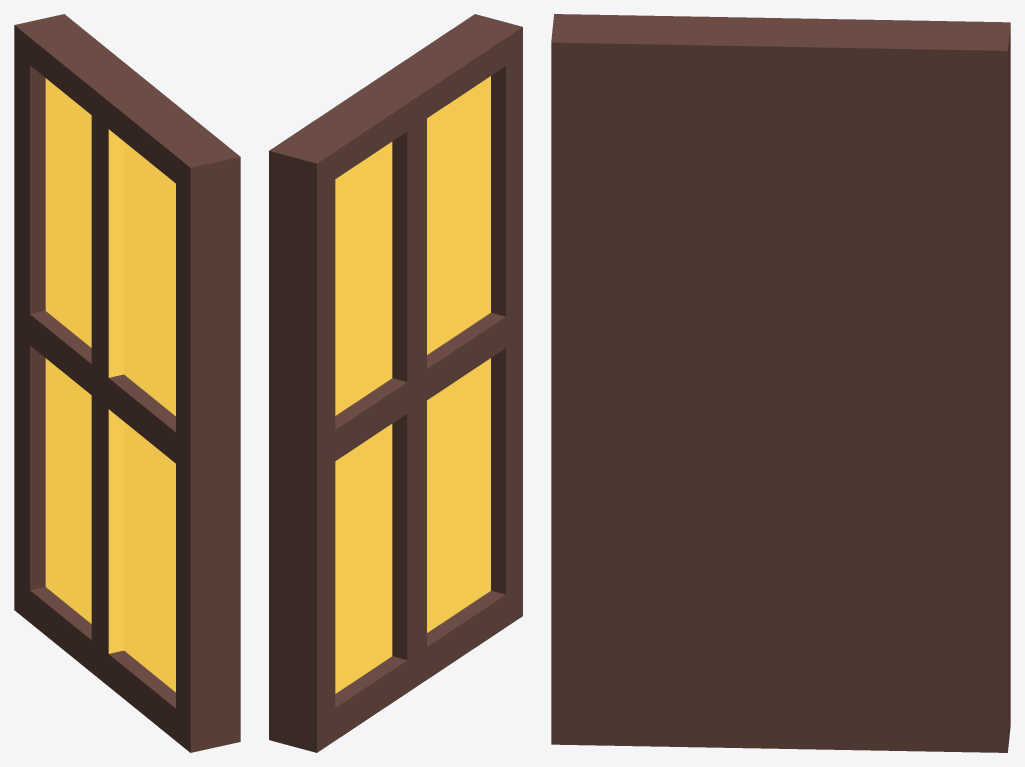
The picture shows the model from 3 angles, left to right: view 1: azimuth 30°, elevation 25°; view 2: azimuth 150°, elevation 25°; view 3: azimuth 270°, elevation 25°; orthographic projection. The views are drawn at different scales.
Parts seen in each view (by area): view 1: Cube.009; view 2: Cube.009; view 3: Cube.009.
Part boxes in pixels (bbox=[...]): Cube.009: bbox=[14, 14, 240, 752]; Cube.009: bbox=[269, 14, 522, 752]; Cube.009: bbox=[551, 14, 1010, 752].
Size of the model in its own units: 0.0203 by 0.1804 by 0.1071.
